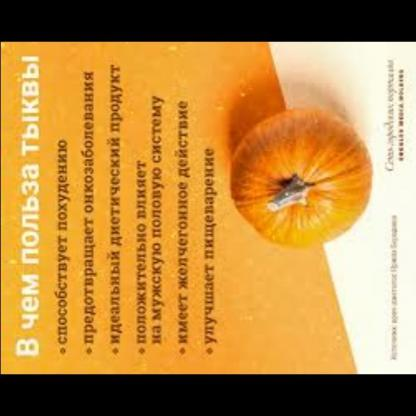pumpkin: (221, 89, 377, 276)
